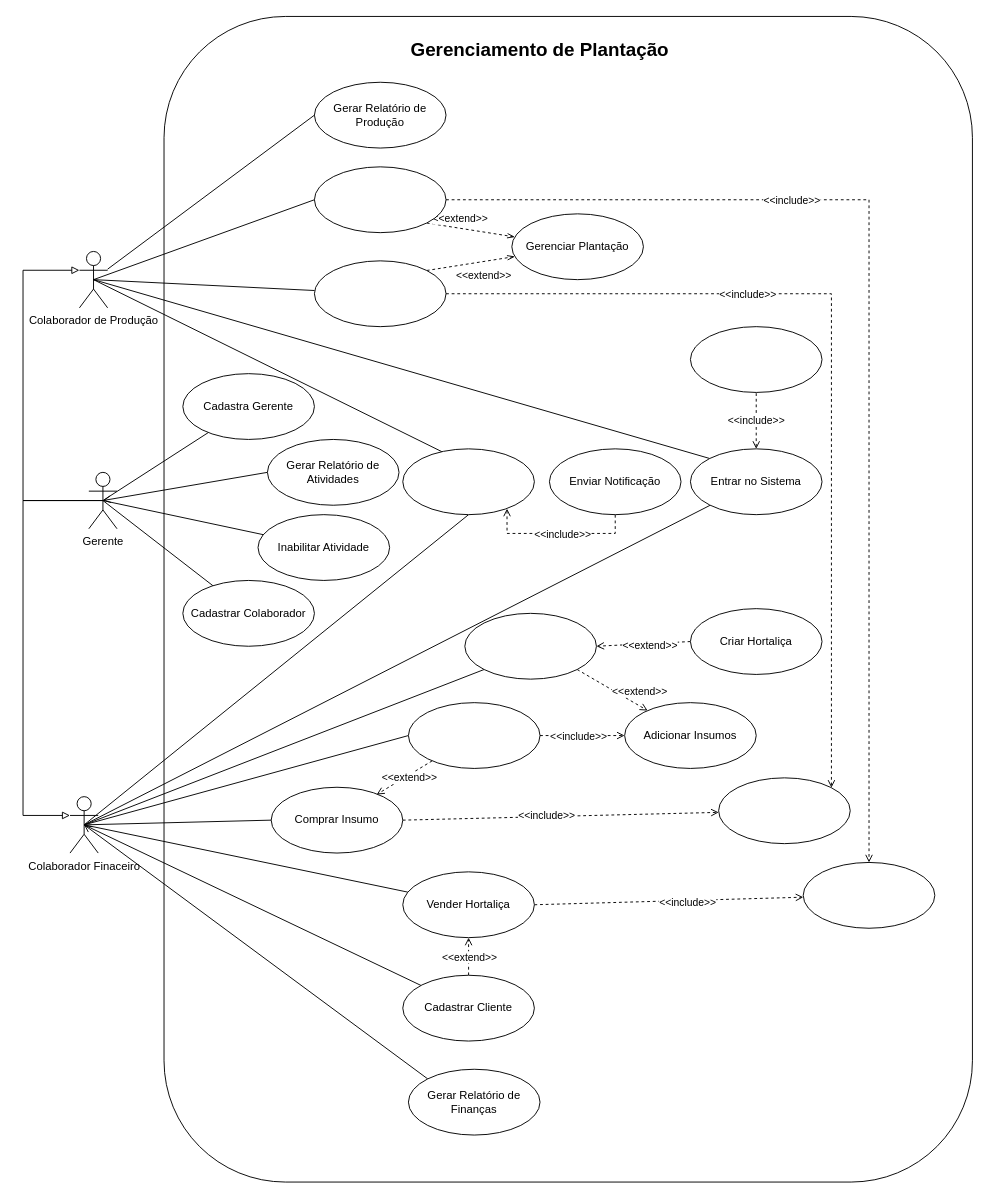
Image size: 989x1199. Some labels were removed from this diagram. The shapes that lost their labels are listed below. From the top down, each one's centre as x and y in pixels, then its label:
point (379, 199): Colher Hortaliça
point (379, 293): Aplicar Insumo
point (755, 359): Sair do Sistema
point (468, 481): Gerenciar Atividade
point (530, 645): Criar Insumo
point (473, 735): Cadastrar Fornecedor
point (784, 810): Gerenciar Celeiro
point (868, 895): Gerenciar Armzém
